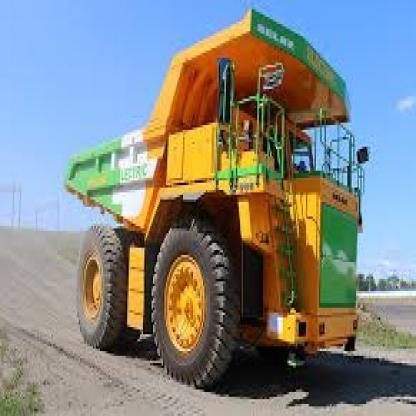dump_truck: (53, 3, 370, 375)
